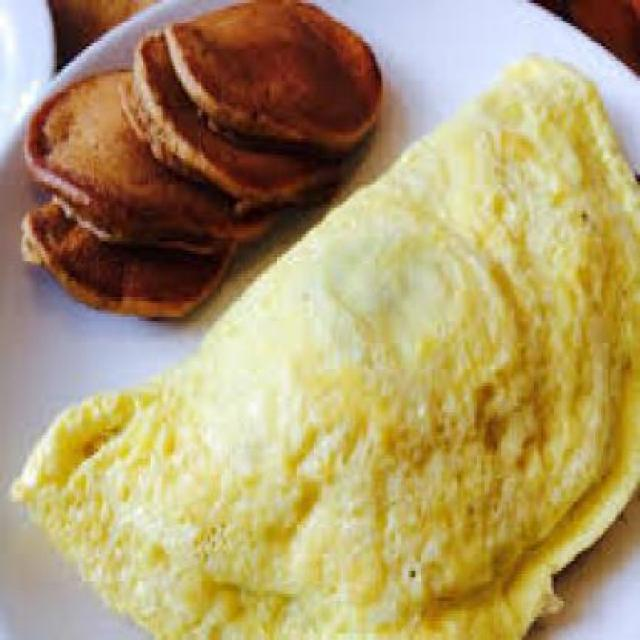omelette: (376, 49, 635, 637), (12, 278, 376, 636)
